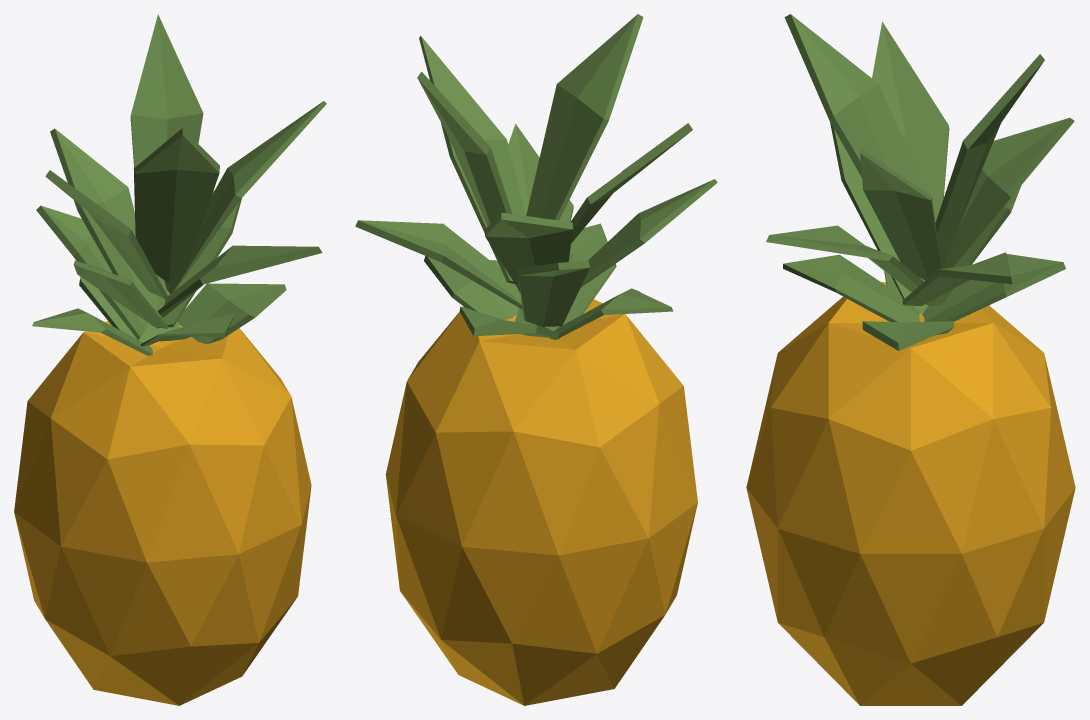
Rendered from Pineapple_01.fbx.
3 views of the same model, side by side, from view 1: azimuth 30°, elevation 25°; view 2: azimuth 150°, elevation 25°; view 3: azimuth 270°, elevation 25° (orthographic). The views are drawn at different scales.
Visible parts, largest first — view 1: Pineapple_01; view 2: Pineapple_01; view 3: Pineapple_01.
Boxes of the visible parts, box(x1,y1,x2,y2) form: Pineapple_01: box(14, 14, 326, 705); Pineapple_01: box(355, 14, 717, 705); Pineapple_01: box(746, 14, 1075, 705).
Bounding box in the file's own units: 14.12 × 30.48 × 13.7.
